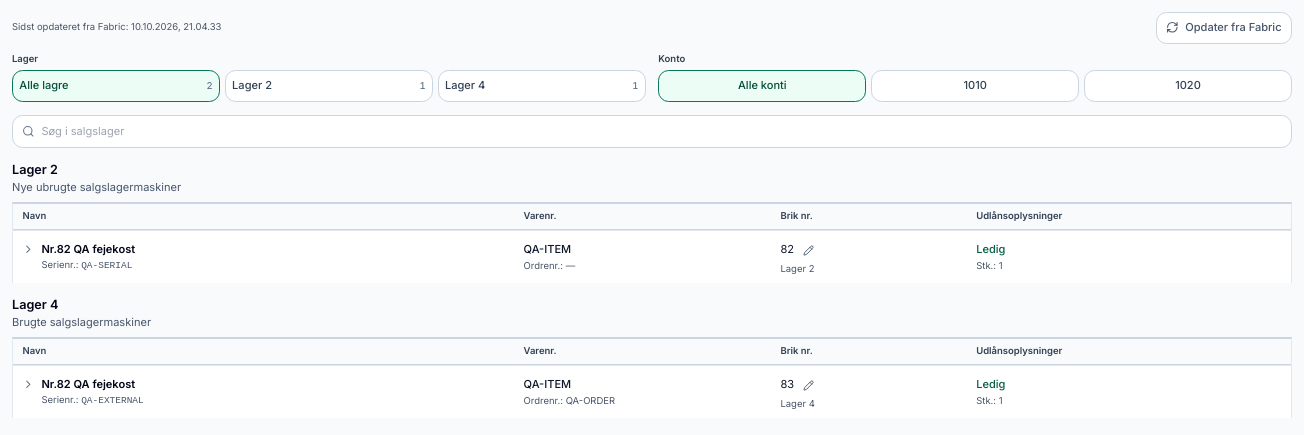
Test case: single Fabric stock dataset › combines search, account and warehouse as AND filters without resetting either control
This screenshot has width=1304, height=435.
In the field labelled "Søg i salgslager": x=661, y=132 top-left (41, 116), bottom-right (1282, 147), type "QA-ORDER"
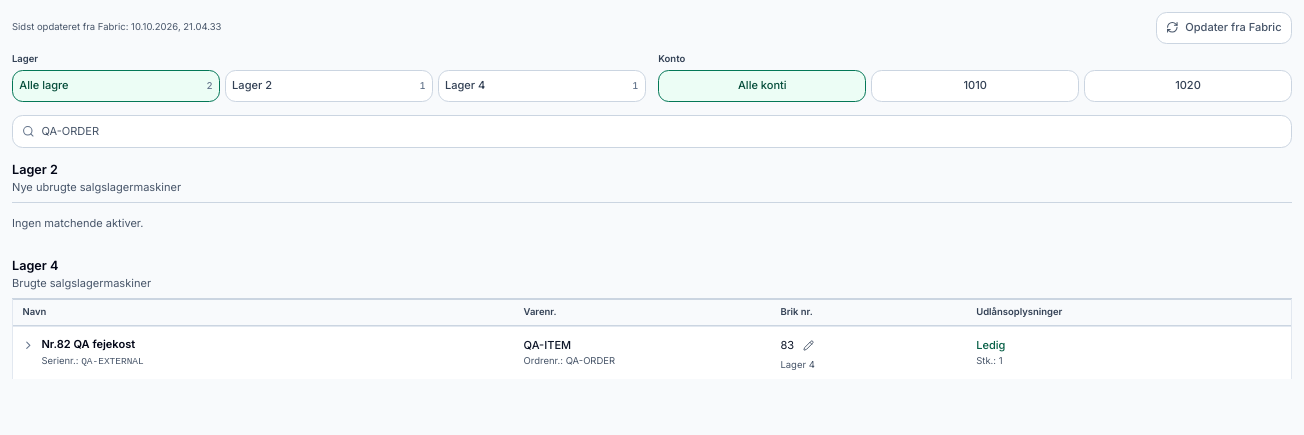
Click the button "1020": x=1188, y=86 top-left (1084, 70), bottom-right (1292, 102)
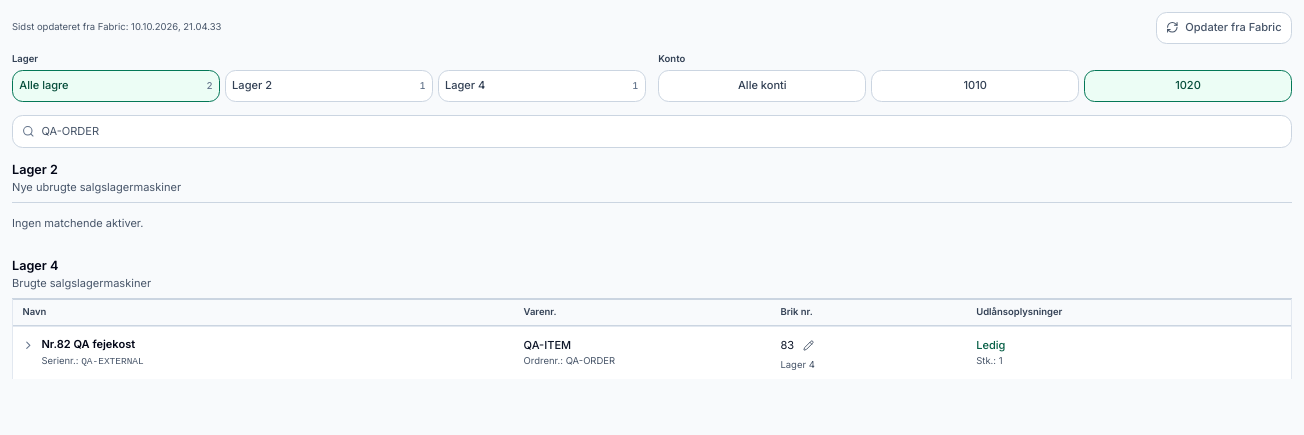
Expected: the text "QA-EXTERNAL" is shown, top-left (81, 356), bottom-right (144, 367)
Result: the button "1020" is pressed at top-left (1084, 70), bottom-right (1292, 102)
Click the button "Lager 2 1": x=329, y=86 top-left (225, 70), bottom-right (433, 102)
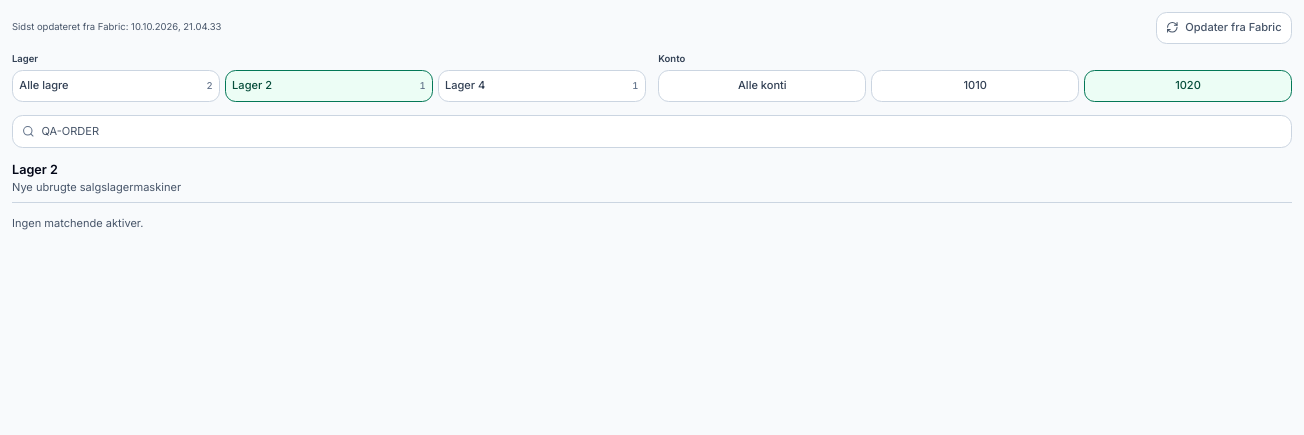
Result: the text "QA-EXTERNAL" is gone
